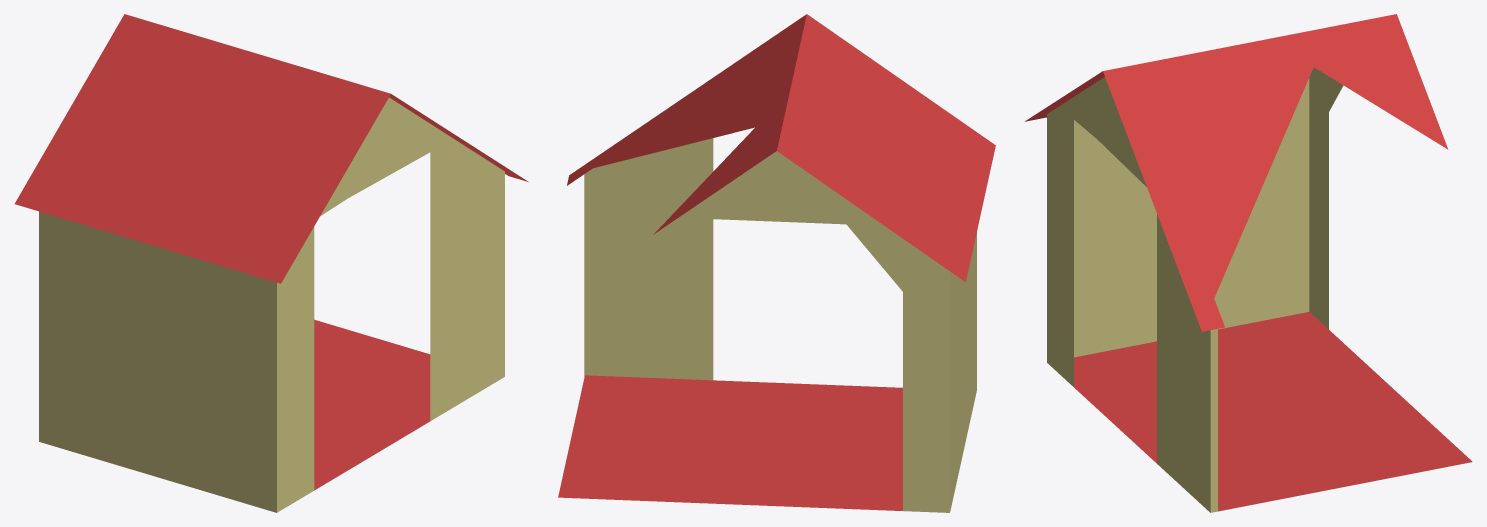
3 renders of one model, left to right at view 1: azimuth 30°, elevation 25°; view 2: azimuth 150°, elevation 25°; view 3: azimuth 270°, elevation 25°, orthographic.
Bounding box in the file's own units: 22.57 × 19.4 × 17.19.
